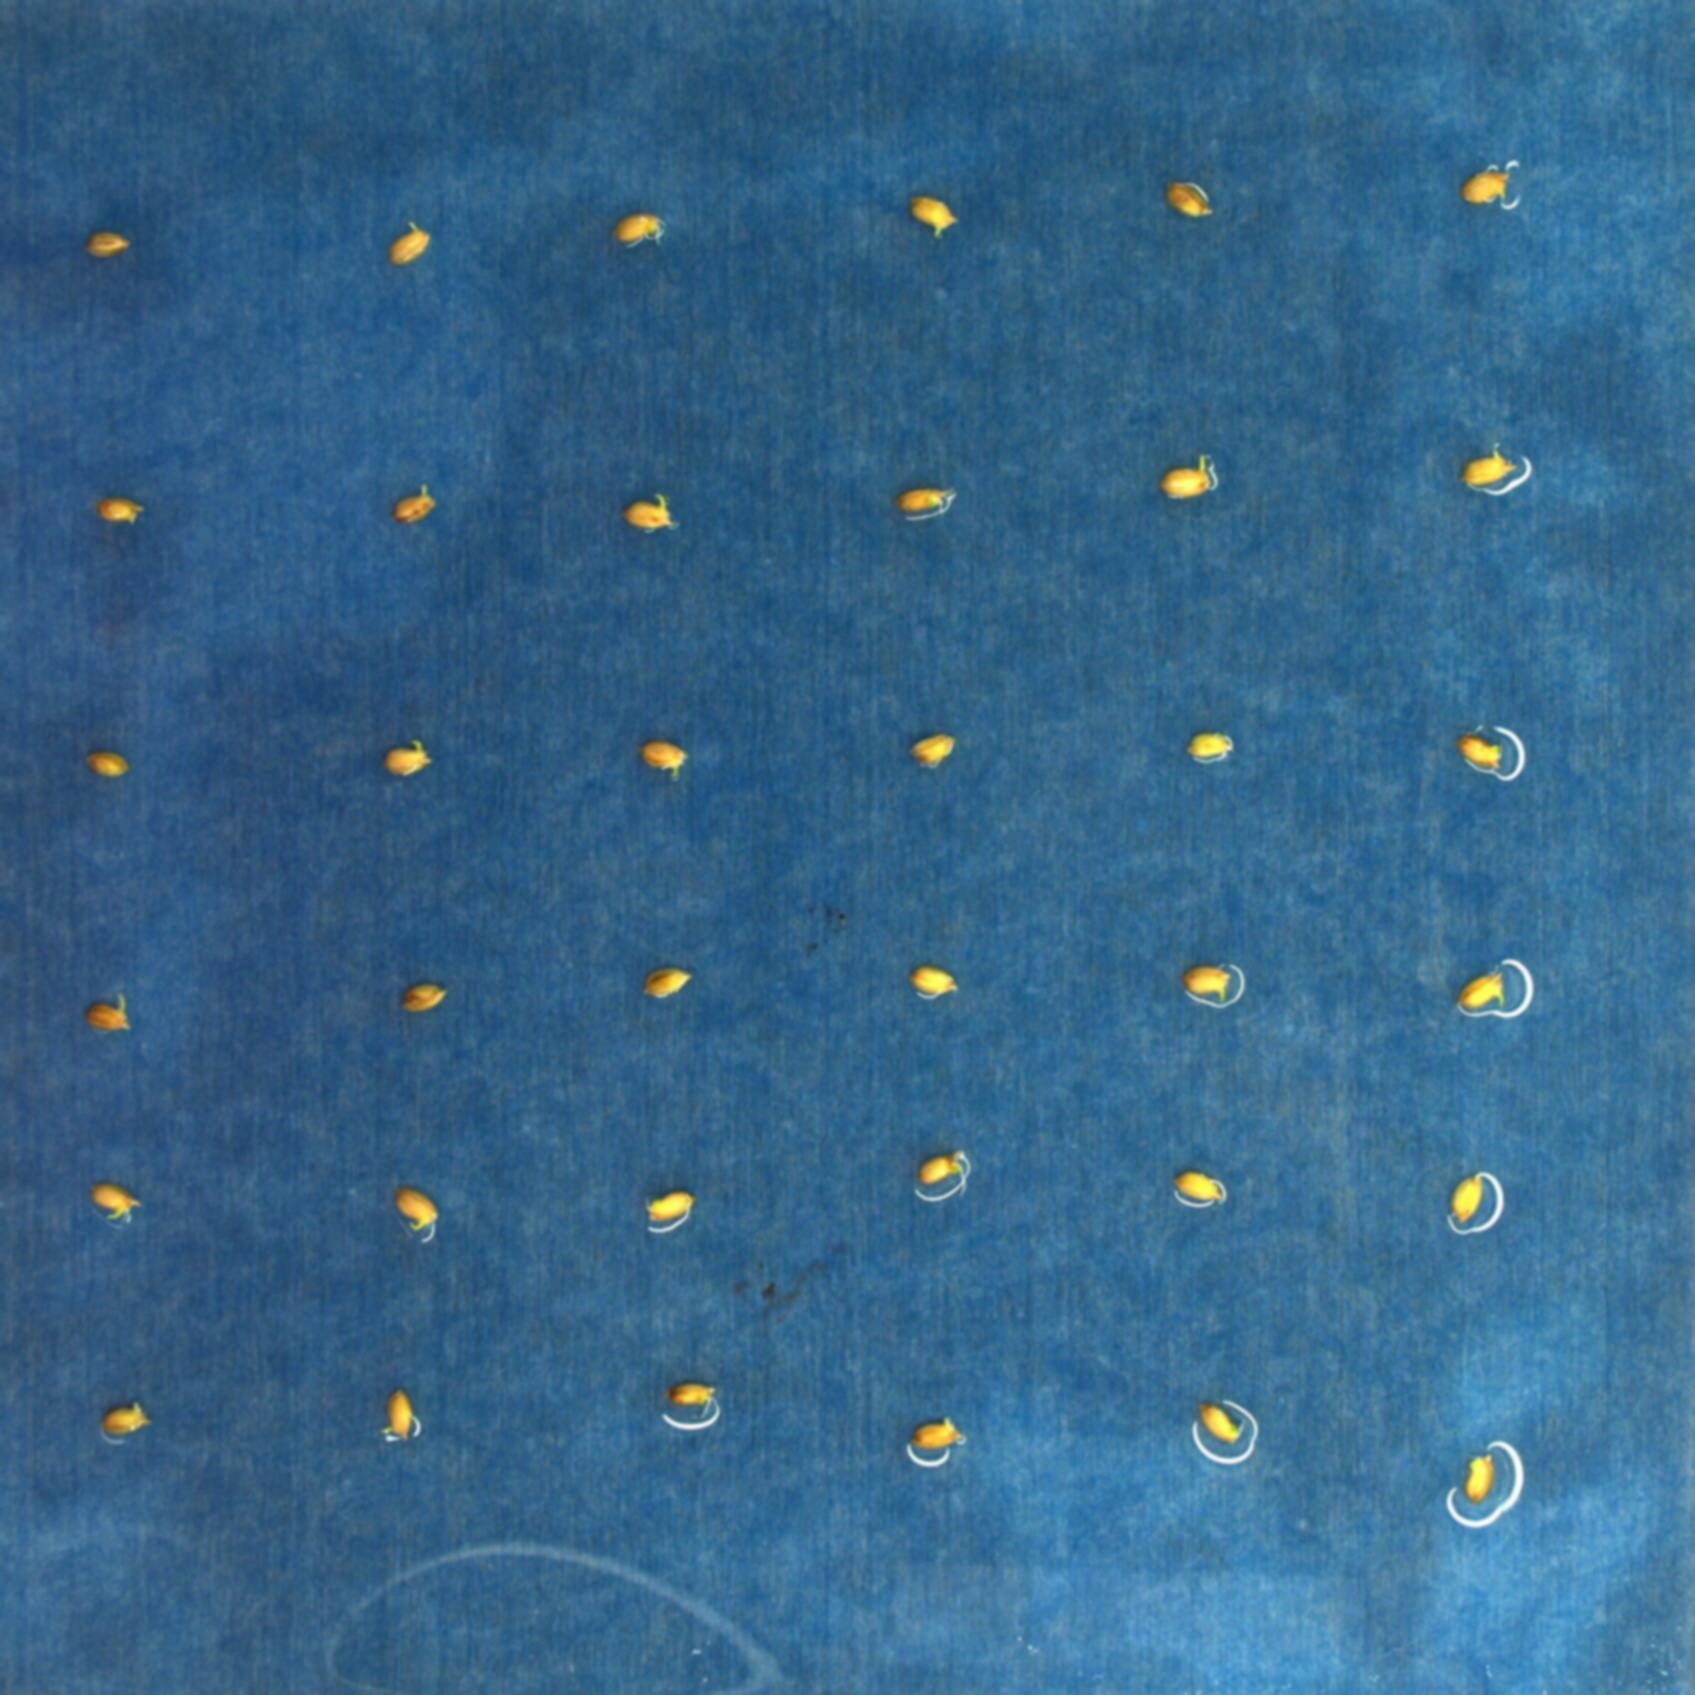not sprout: (1451, 961, 1513, 1024), (366, 1389, 425, 1442), (906, 185, 959, 244), (1195, 1400, 1257, 1450), (896, 477, 959, 525), (1462, 450, 1526, 497), (1159, 452, 1215, 504), (1187, 725, 1246, 775), (1451, 1167, 1492, 1239), (635, 961, 692, 1010), (1184, 961, 1240, 1010), (87, 1178, 140, 1229), (390, 210, 433, 272), (1462, 157, 1515, 206), (397, 1183, 442, 1240), (1461, 1447, 1499, 1512), (624, 489, 678, 534), (1461, 725, 1509, 775), (902, 1416, 958, 1458), (646, 1187, 695, 1234), (906, 720, 953, 770), (383, 730, 432, 776), (920, 1146, 964, 1197), (644, 733, 688, 782), (386, 481, 438, 523), (1164, 175, 1215, 217), (1175, 1161, 1217, 1211), (84, 992, 135, 1032), (906, 961, 955, 1003), (106, 1395, 146, 1444), (660, 1372, 711, 1409), (81, 224, 129, 262), (615, 206, 661, 245), (98, 489, 146, 525), (400, 979, 445, 1012), (84, 745, 126, 776)
